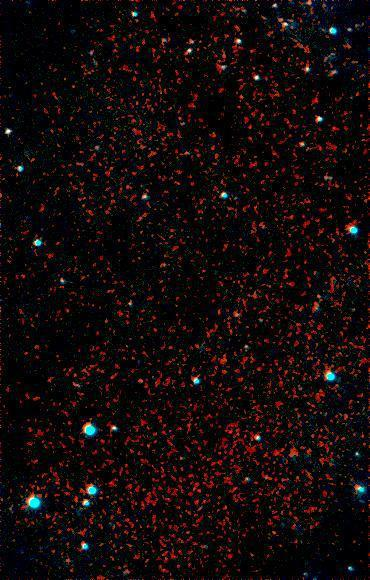star: (122, 366, 152, 396)
